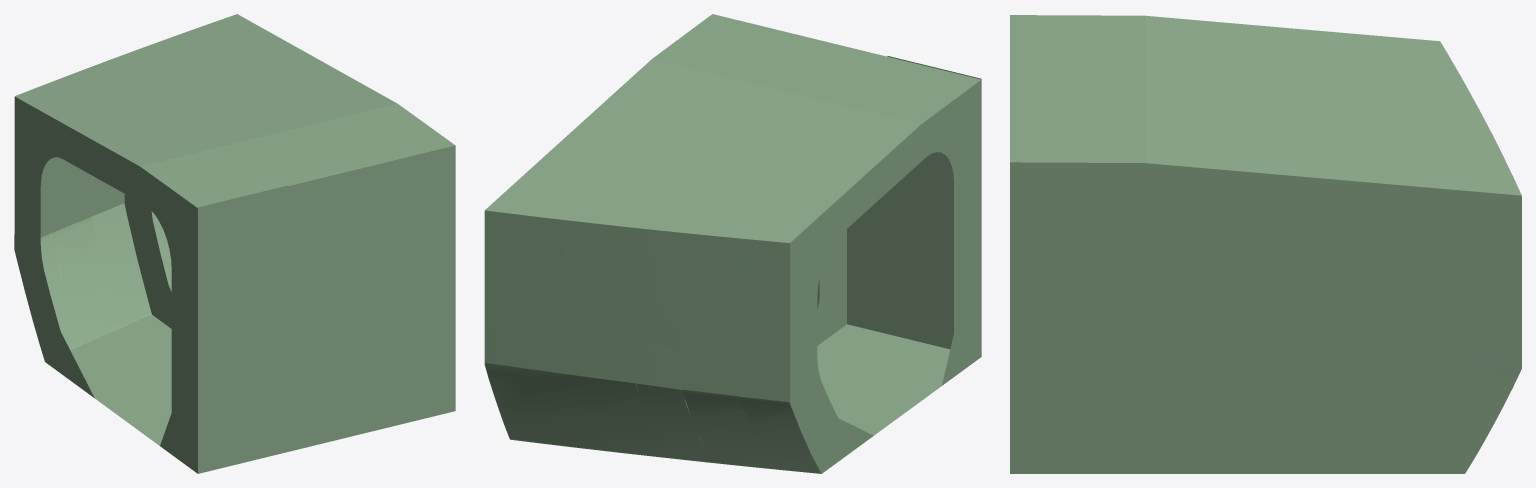
The model's file is NO_2_DIESEL_OIL_TK_SERV_PS.glb.
3 renders of one model, left to right at view 1: azimuth 30°, elevation 25°; view 2: azimuth 150°, elevation 25°; view 3: azimuth 270°, elevation 25°, orthographic. The views are drawn at different scales.
Parts seen in each view (by area): view 1: PL_LBHDxEPRP_022001-12.5_NVA_1993, PL_LBHDxEPRP_020001-12.5_NVA_1993, PL_UDxEPRP_049002-14.5_NVA_1993, PL_UDxEPRP_048004-14.5_NVA_1993, PL_LBHDxEPRP_021002-12.5_NVA_1993, PL_UDxEPRP_043002-14.5_NVA_1993, PL_LBHDxEPRP_021001-12.5_NVA_1993, PL_LBHDxEPRP_022002-12.5_NVA_1993, PL_OuterShellxEPRP_059004-17_NVA_1993, PL_OuterShellxEPRP_059002-17_NVA_1993, PL_LBHDxEPRP_027001-12.5_NVA_1993, PL_TransxFR30P_010001-12_NVA_1993 (+38 smaller); view 2: PL_OuterShellxEPRP_059002-17_NVA_1993, PL_UDxEPRP_049002-14.5_NVA_1993, PL_OuterShellxEPRP_070002-17_NVA_1993, PL_UDxEPRP_048004-14.5_NVA_1993, PL_OuterShellxEPRP_064004-17_NVA_1993, PL_OuterShellxEPRP_064005-17_NVA_1993, PL_UDxEPRP_043002-14.5_NVA_1993, PL_UDxEPRP_051002-14.5_NVA_1993, PL_LBHDxEPRP_020002-12.5_NVA_1993, PL_TransxFR30P_010001-12_NVA_1993, PL_TransxFR30P_015002-12_NVA_1993, PL_OuterShellxEPRP_059004-17_NVA_1993 (+39 smaller); view 3: PL_TransxFR40P_014002-12.5_NVA_1993, PL_TransxFR40P_014001-12.5_NVA_1993, PL_TransxFR40P_013001-12.5_NVA_1993, PL_TransxFR40P_013002-12.5_NVA_1993, PL_TransxFR40P_015001-12.5_NVA_1993, PL_TransxFR40P_015002-12.5_NVA_1993, PL_UDxEPRP_049002-14.5_NVA_1993, PL_TransxFR40P_016001-12.5_NVA_1993, PL_UDxEPRP_048004-14.5_NVA_1993, PL_TransxFR40P_016003-12.5_NVA_1993, PL_UDxEPRP_043002-14.5_NVA_1993, PL_UDxEPRP_051002-14.5_NVA_1993 (+15 smaller).
Part boxes in pixels (x1,y1,x2,y2): PL_LBHDxEPRP_022001-12.5_NVA_1993: [288, 147, 446, 291]; PL_LBHDxEPRP_020001-12.5_NVA_1993: [288, 333, 446, 451]; PL_UDxEPRP_049002-14.5_NVA_1993: [106, 34, 338, 111]; PL_UDxEPRP_048004-14.5_NVA_1993: [172, 71, 397, 144]; PL_LBHDxEPRP_021002-12.5_NVA_1993: [288, 286, 446, 372]; PL_UDxEPRP_043002-14.5_NVA_1993: [253, 120, 455, 186]; PL_LBHDxEPRP_021001-12.5_NVA_1993: [288, 252, 446, 324]; PL_LBHDxEPRP_022002-12.5_NVA_1993: [241, 185, 287, 302]; PL_OuterShellxEPRP_059004-17_NVA_1993: [51, 217, 118, 344]; PL_OuterShellxEPRP_059002-17_NVA_1993: [91, 203, 171, 326]; PL_LBHDxEPRP_027001-12.5_NVA_1993: [198, 197, 240, 313]; PL_TransxFR30P_010001-12_NVA_1993: [14, 233, 94, 398]; PL_OuterShellxEPRP_059002-17_NVA_1993: [485, 362, 710, 461]; PL_UDxEPRP_049002-14.5_NVA_1993: [522, 114, 764, 219]; PL_OuterShellxEPRP_070002-17_NVA_1993: [484, 210, 681, 300]; PL_UDxEPRP_048004-14.5_NVA_1993: [591, 59, 826, 156]; PL_OuterShellxEPRP_064004-17_NVA_1993: [484, 274, 681, 351]; PL_OuterShellxEPRP_064005-17_NVA_1993: [484, 325, 681, 389]; PL_UDxEPRP_043002-14.5_NVA_1993: [675, 14, 886, 83]; PL_UDxEPRP_051002-14.5_NVA_1993: [485, 177, 696, 232]; PL_LBHDxEPRP_020002-12.5_NVA_1993: [887, 251, 936, 345]; PL_TransxFR30P_010001-12_NVA_1993: [790, 365, 873, 473]; PL_TransxFR30P_015002-12_NVA_1993: [944, 224, 981, 383]; PL_OuterShellxEPRP_059004-17_NVA_1993: [682, 389, 768, 467]; PL_TransxFR40P_014002-12.5_NVA_1993: [1225, 324, 1376, 473]; PL_TransxFR40P_014001-12.5_NVA_1993: [1225, 170, 1376, 324]; PL_TransxFR40P_013001-12.5_NVA_1993: [1376, 183, 1521, 324]; PL_TransxFR40P_013002-12.5_NVA_1993: [1376, 324, 1521, 473]; PL_TransxFR40P_015001-12.5_NVA_1993: [1108, 163, 1224, 324]; PL_TransxFR40P_015002-12.5_NVA_1993: [1108, 324, 1224, 473]; PL_UDxEPRP_049002-14.5_NVA_1993: [1283, 79, 1438, 188]; PL_TransxFR40P_016001-12.5_NVA_1993: [1010, 162, 1093, 324]; PL_UDxEPRP_048004-14.5_NVA_1993: [1145, 67, 1283, 174]; PL_TransxFR40P_016003-12.5_NVA_1993: [1010, 324, 1093, 473]; PL_UDxEPRP_043002-14.5_NVA_1993: [1010, 66, 1093, 162]; PL_UDxEPRP_051002-14.5_NVA_1993: [1438, 92, 1521, 195].
Bounding box in the file's own units: 9 × 8.9 × 13.21.
